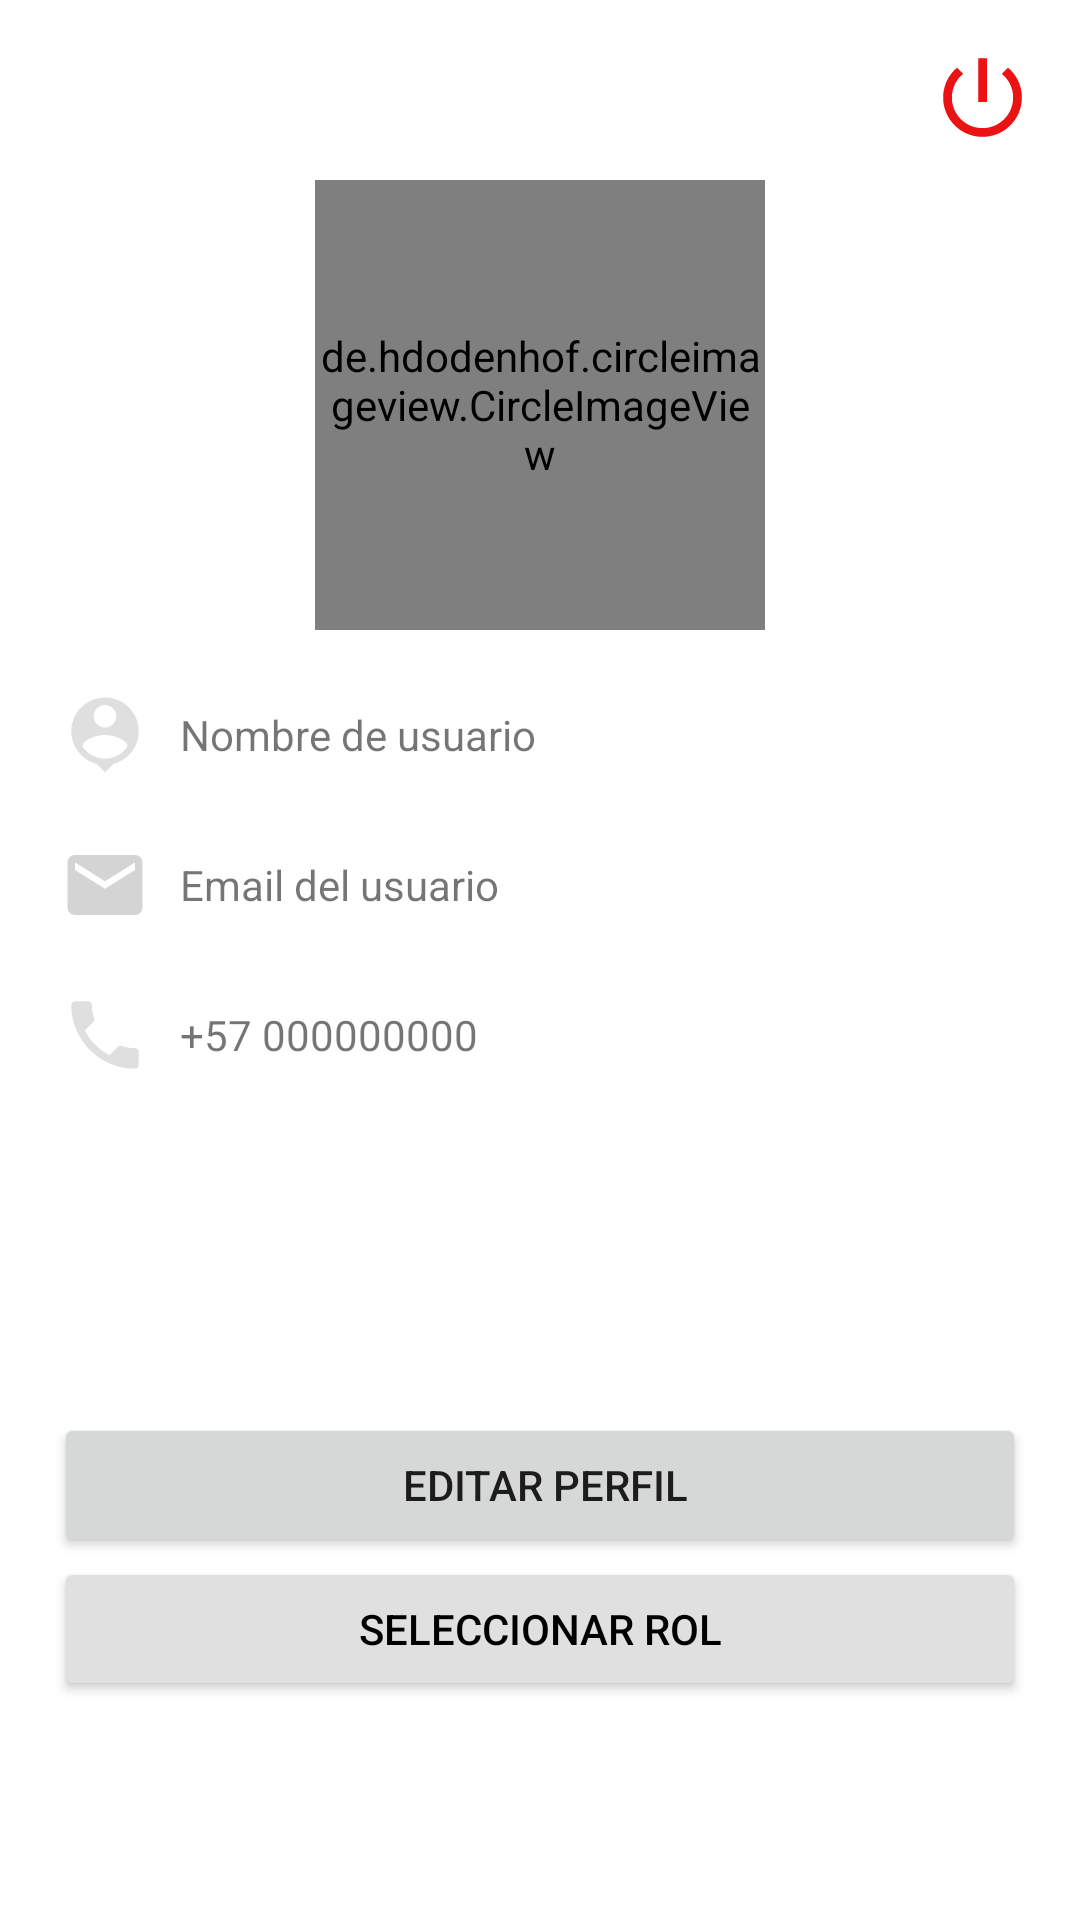

Screen size 1080px x 1920px. Icon name, then its box in pixels as (x1, y1, x2, y2):
person pin: (72, 698, 138, 772)
phone: (72, 1002, 138, 1068)
power: (943, 58, 1022, 137)
